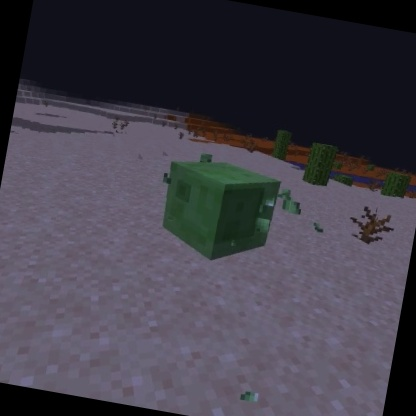slime: (151, 149, 289, 274)
